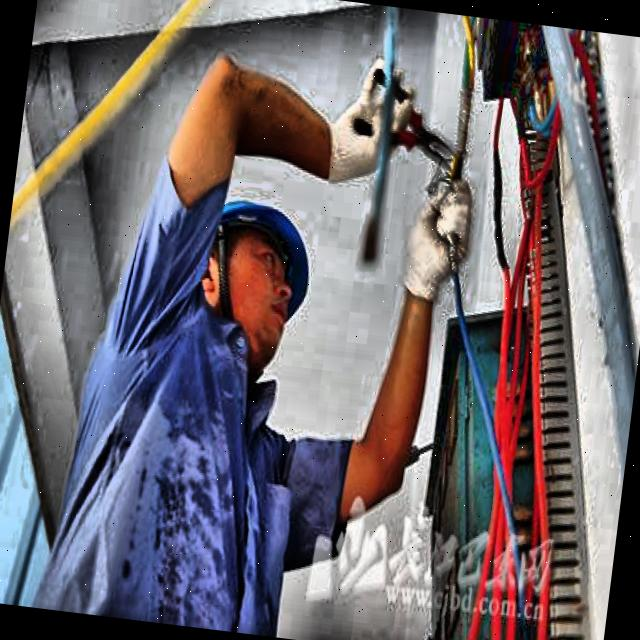helmet: (185, 138, 334, 372)
